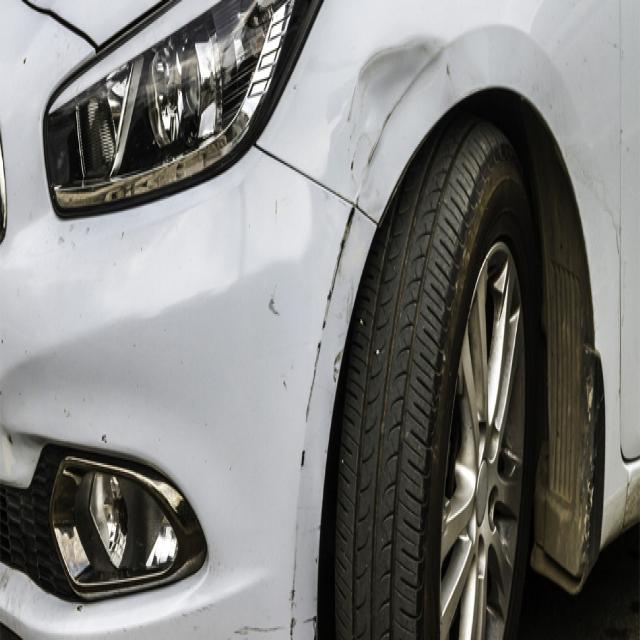dent: (338, 21, 462, 136)
scratch: (321, 202, 357, 331), (304, 341, 323, 426), (286, 552, 300, 640), (232, 618, 284, 637), (303, 596, 319, 640), (331, 342, 345, 382), (268, 286, 279, 323), (300, 446, 307, 473)
